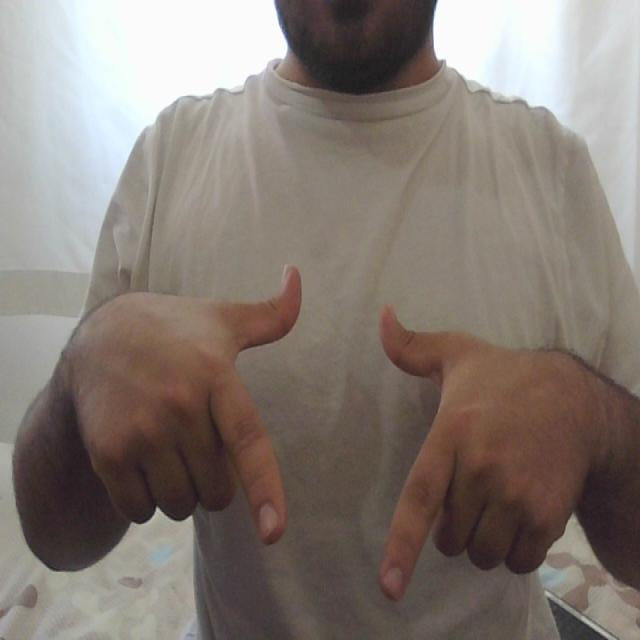Nerede: (177, 258, 492, 606)
